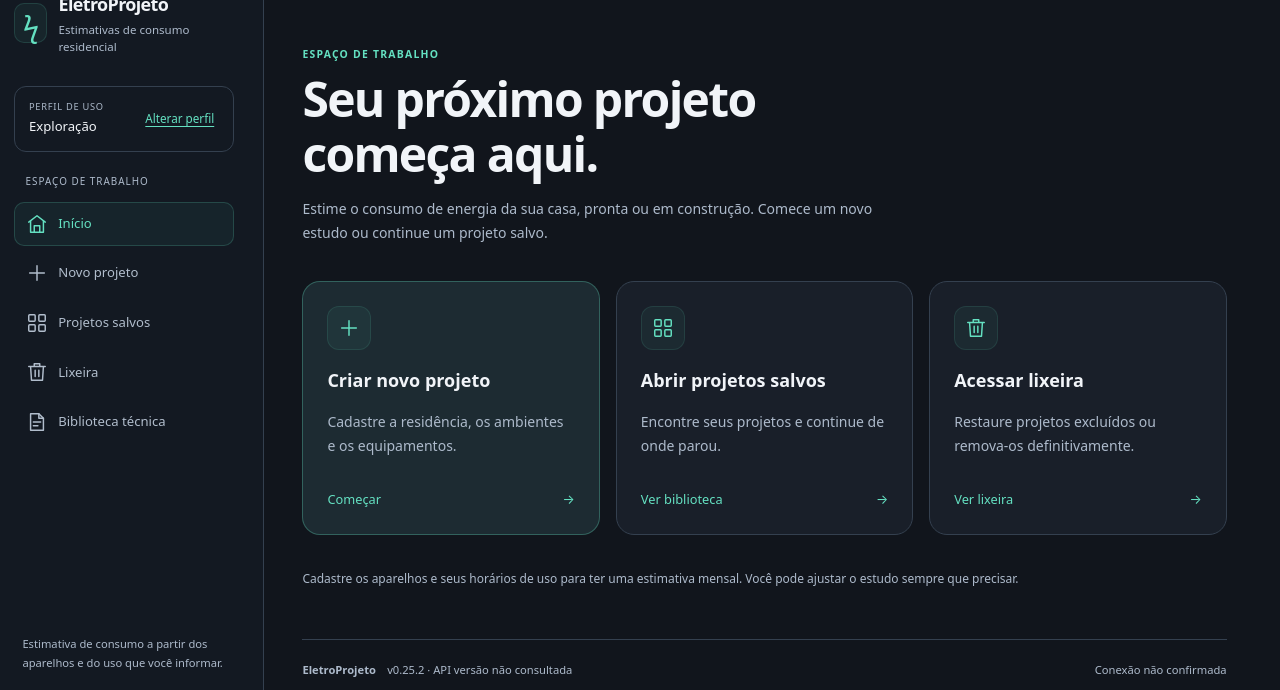
Test: save as without renaming creates an identifiable copy and adopts its returned inputs
Click the button "Criar novo projeto".
click(349, 328)  # box [302, 281, 600, 535]
(page scrolled)
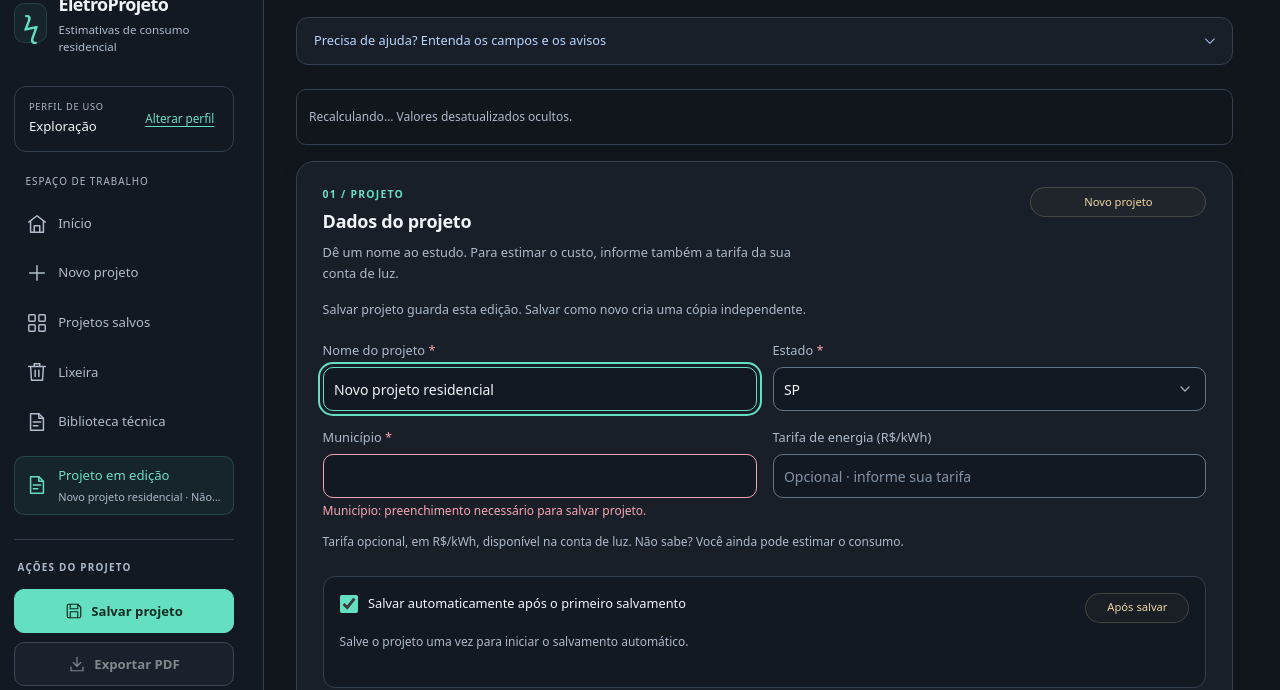
Type "Cidade" into the field labelled "Município".
click(540, 476); type("Cidade")  # box [323, 454, 756, 498]
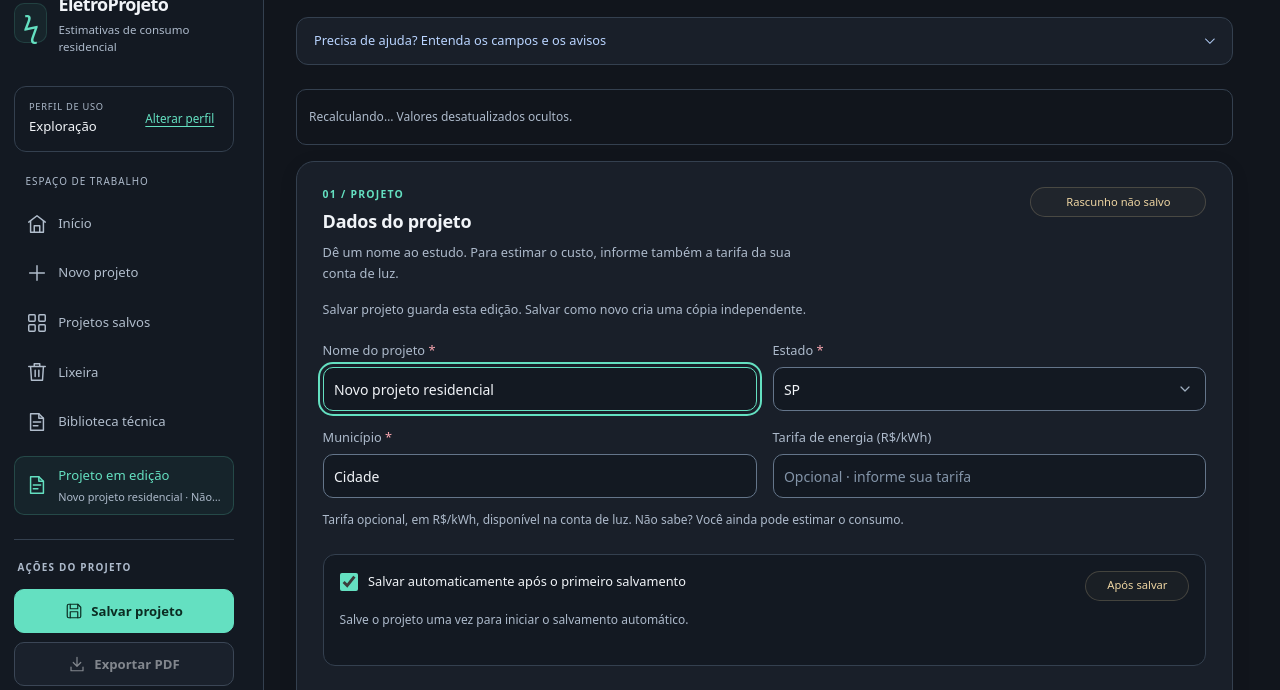
Click the button "Salvar projeto".
click(124, 611)  # box [14, 589, 234, 633]
(page scrolled)
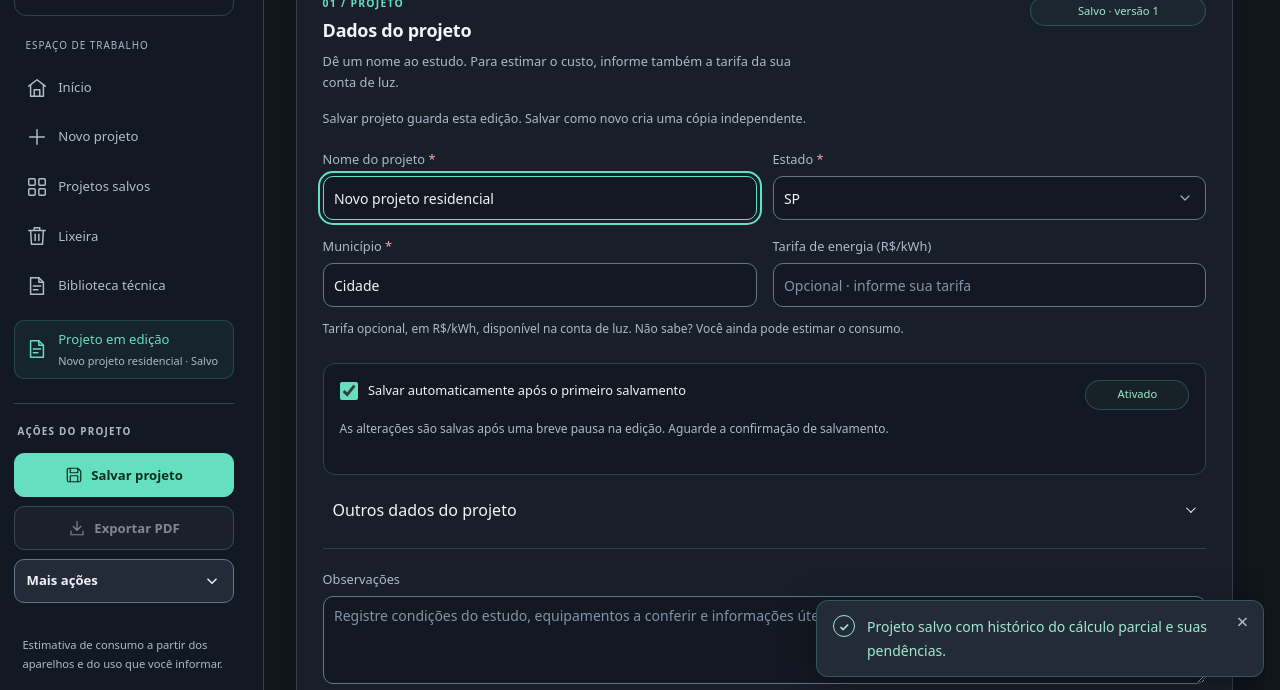
Click the heading named "Mais ações do projeto".
click(124, 581)  # box [14, 559, 234, 603]
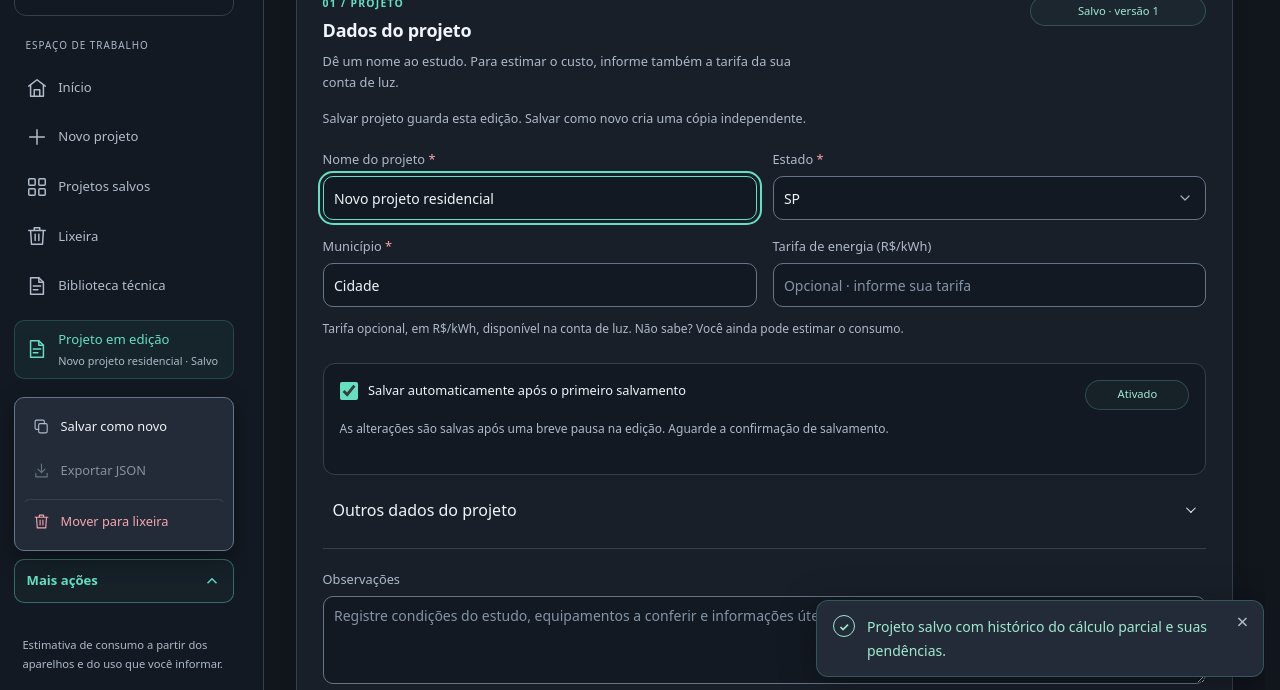
Click the button "Salvar como novo".
click(124, 427)  # box [22, 405, 226, 449]
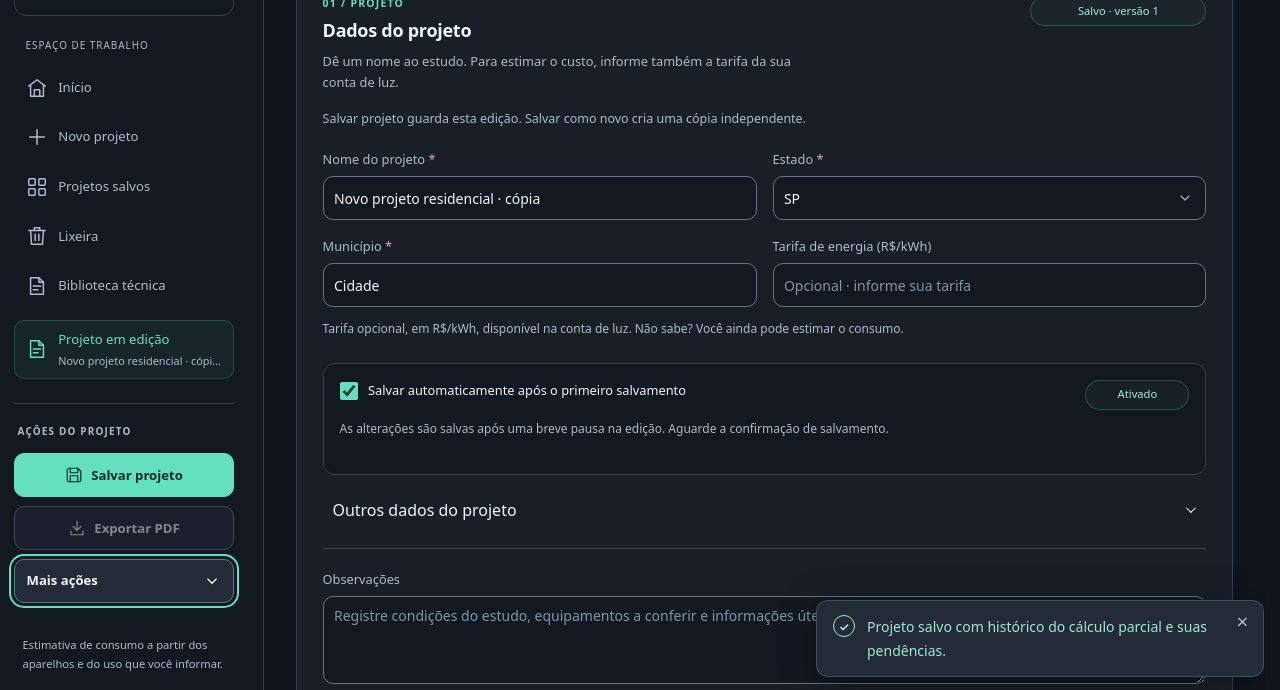
Check: the field labelled "Nome do projeto" holds "Novo projeto residencial · cópia", box [323, 176, 756, 220]
